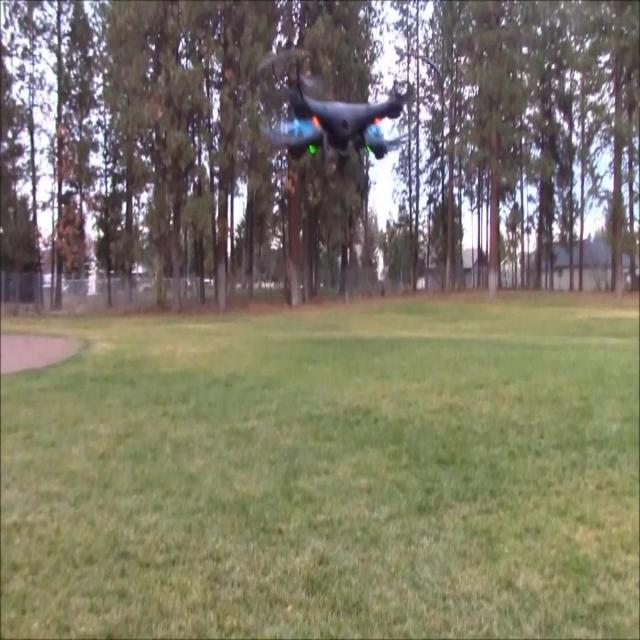UAV: (260, 52, 440, 168)
